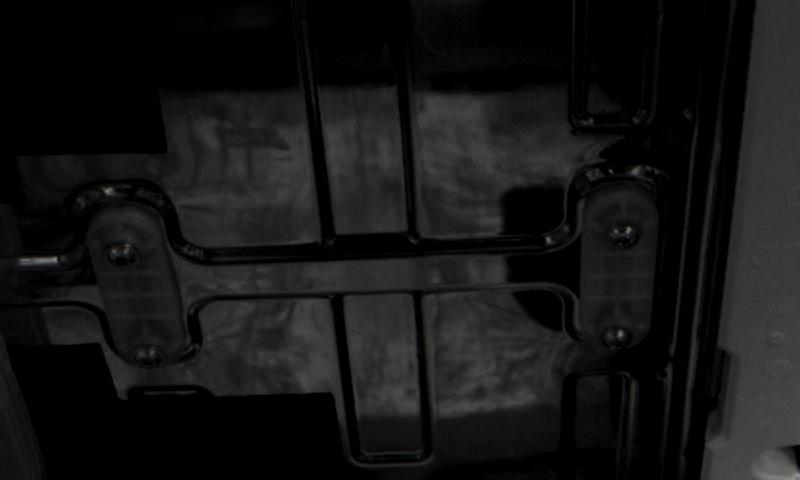vida-ok: (601, 215, 644, 260), (104, 235, 144, 280), (124, 336, 167, 376), (598, 318, 638, 356)
